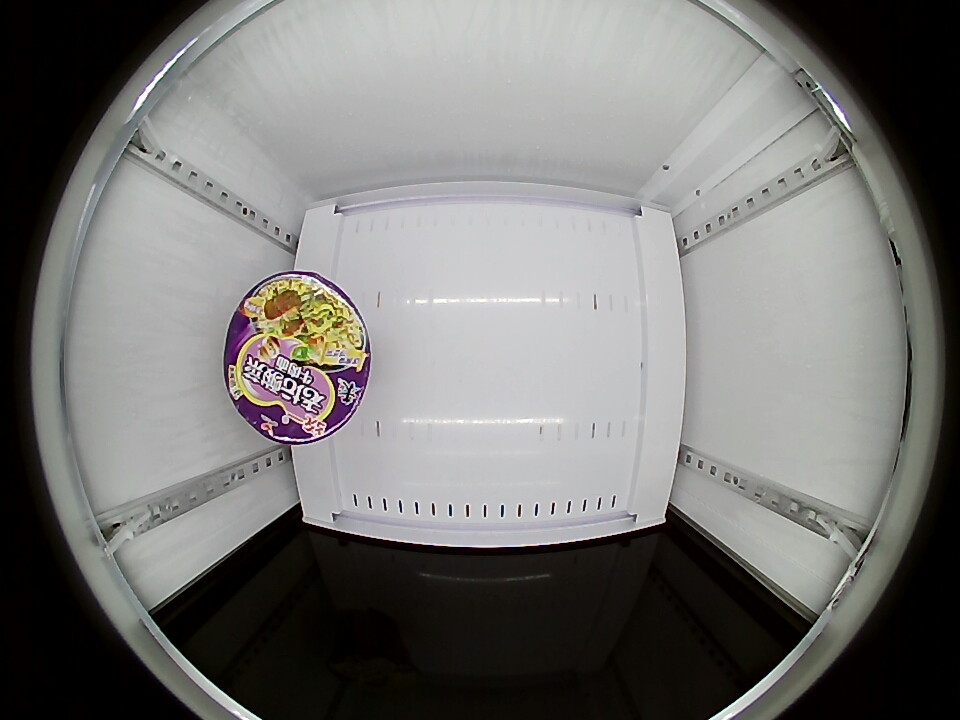laotansuancai: (224, 271, 370, 445)
